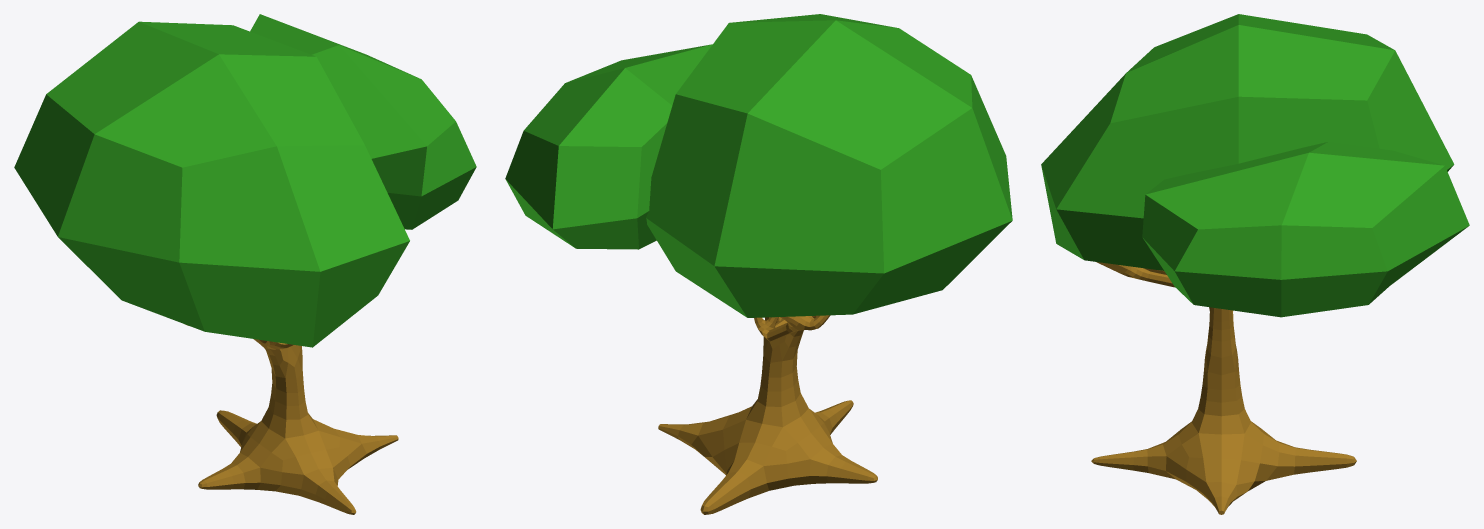
The model's file is SM_Prop_arbol (modelo 2).fbx.
The picture shows the model from 3 angles, left to right: view 1: azimuth 30°, elevation 25°; view 2: azimuth 150°, elevation 25°; view 3: azimuth 270°, elevation 25°; orthographic projection. The views are drawn at different scales.
Parts seen in each view (by area): view 1: tronco; view 2: tronco; view 3: tronco.
Boxes of the visible parts, <box> form: tronco: <box>14,14,476,514</box>; tronco: <box>505,14,1012,514</box>; tronco: <box>1041,14,1469,514</box>.
Bounding box in the file's own units: 1167 × 1196 × 1101.
Materials: 1 (1 with a texture image).
